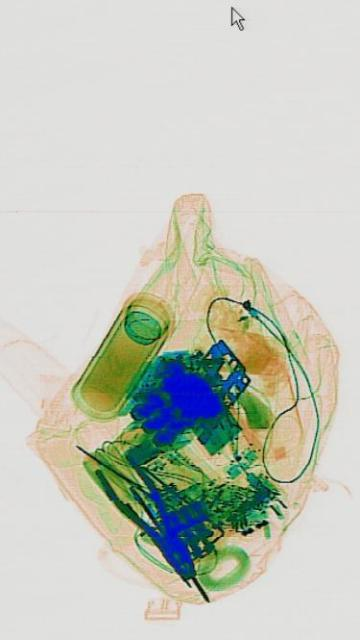Pliers: (91, 429, 201, 601)
